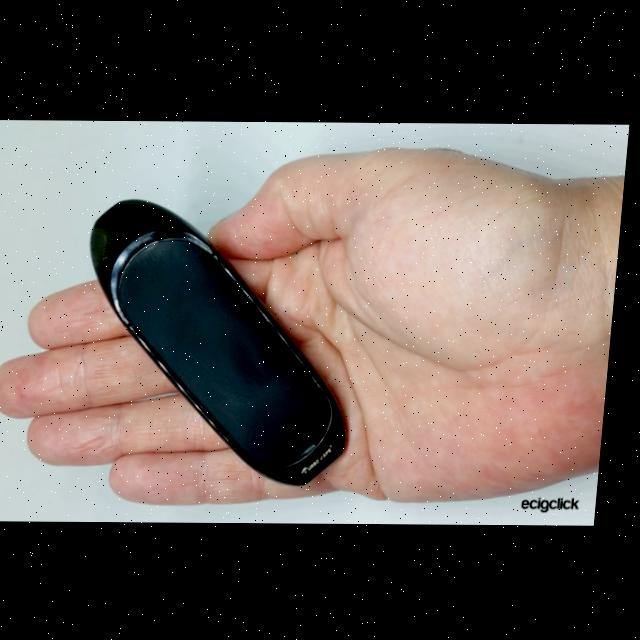vape: (77, 196, 372, 483)
